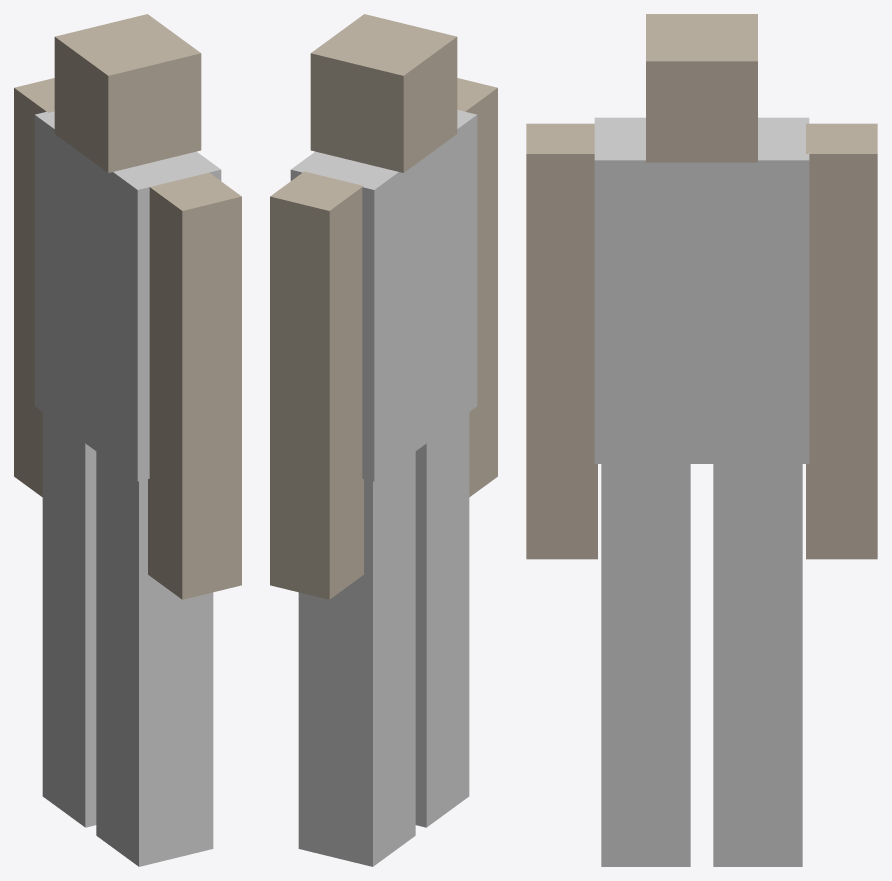
Rendered from player.fbx.
3 views of the same model, side by side, from view 1: azimuth 30°, elevation 25°; view 2: azimuth 150°, elevation 25°; view 3: azimuth 270°, elevation 25° (orthographic). The views are drawn at different scales.
Parts seen in each view (by area): view 1: Cube.004, Cube.002, Cube, Cube.001, Cube.005, Cube.003; view 2: Cube.003, Cube.001, Cube, Cube.002, Cube.005, Cube.004; view 3: Cube, Cube.002, Cube.001, Cube.003, Cube.004, Cube.005.
Part boxes in pixels (x1,y1,x2,y2): Cube.004: (148, 172, 241, 599); Cube.002: (96, 451, 213, 866); Cube: (34, 111, 221, 481); Cube.001: (42, 412, 96, 827); Cube.005: (54, 14, 201, 172); Cube.003: (14, 78, 54, 497); Cube.003: (270, 171, 363, 599); Cube.001: (298, 451, 415, 866); Cube: (290, 110, 477, 481); Cube.002: (415, 412, 469, 827); Cube.005: (310, 14, 457, 172); Cube.004: (457, 78, 497, 497); Cube: (594, 117, 809, 463); Cube.002: (601, 464, 690, 866); Cube.001: (713, 464, 802, 866); Cube.003: (806, 123, 877, 559); Cube.004: (526, 123, 597, 559); Cube.005: (646, 14, 757, 162).
Size of the model in its own units: 0.2 by 1.6 by 0.628.
